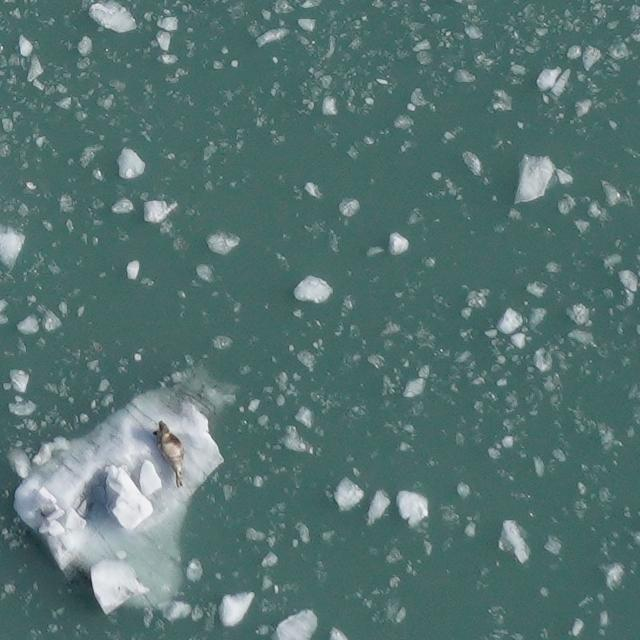seal: (148, 416, 189, 493)
